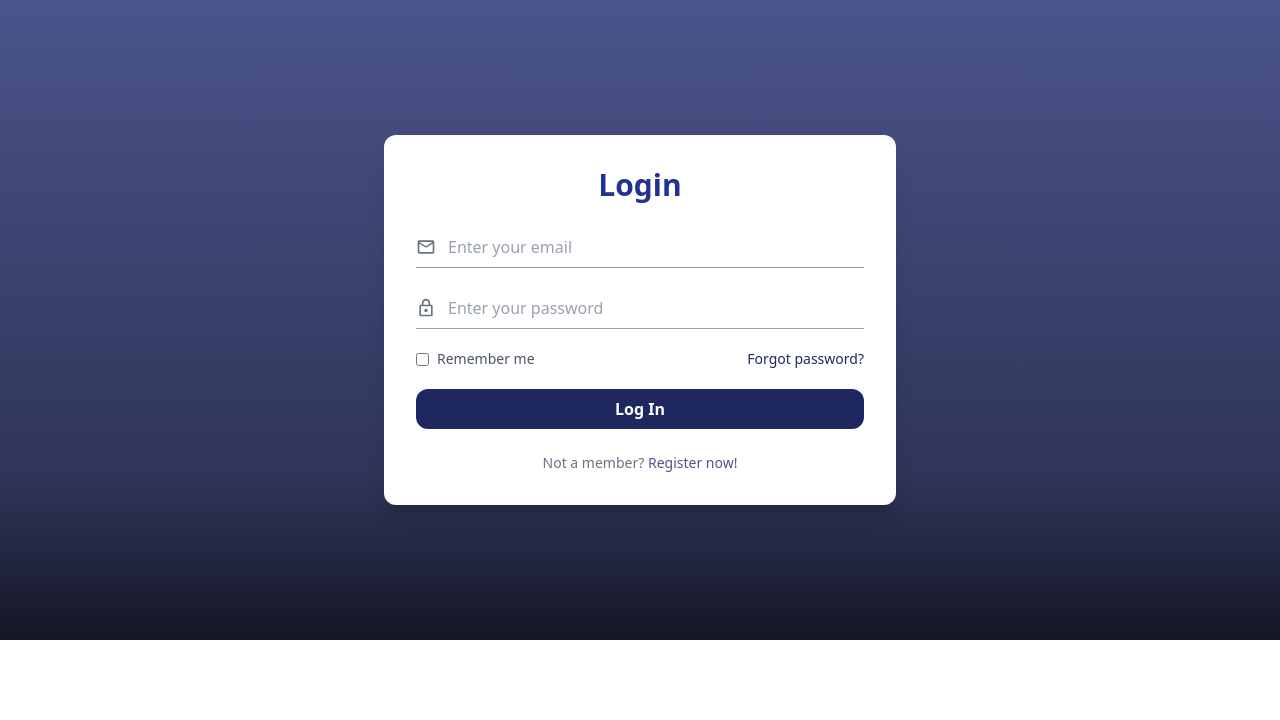
Scenario: Login Page › shows error on failed login (mocked)
This screenshot has width=1280, height=720.
Type "fail@example.com" into the field with placeholder "Enter your email". click: (656, 247)
box: [448,235,864,259]
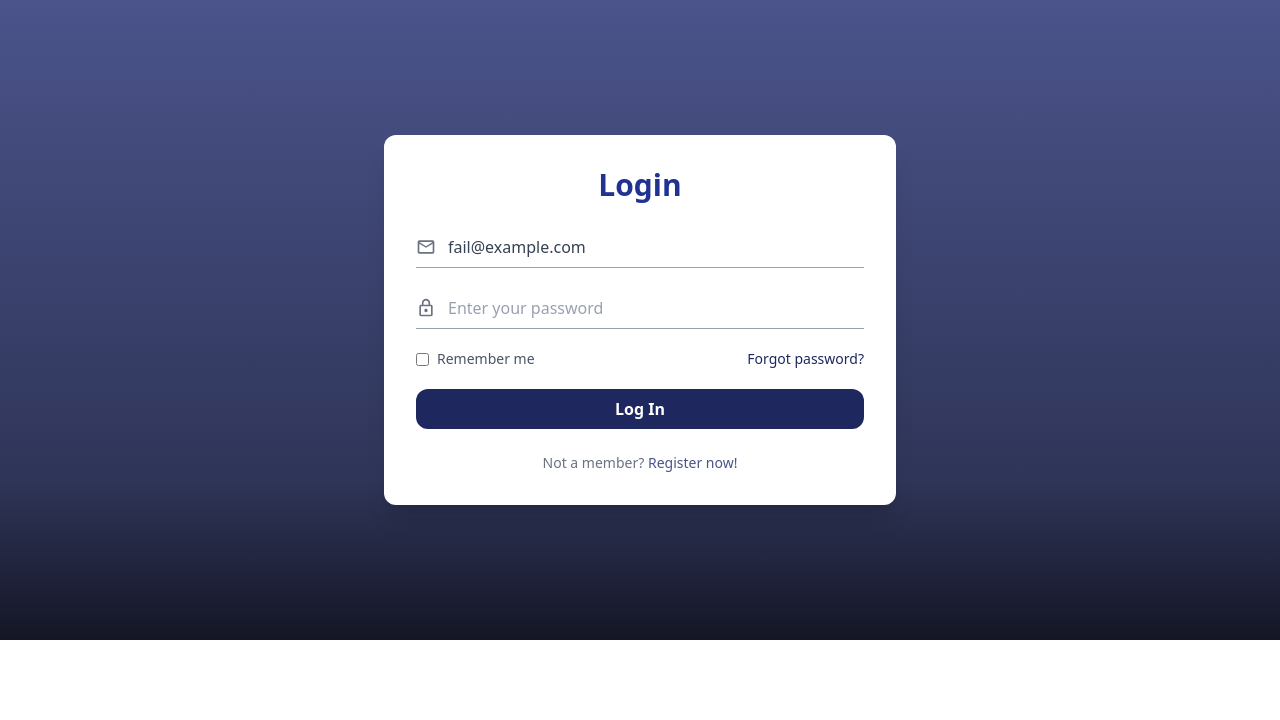
Type "wrongpassword" into the password field with placeholder "Enter your password". click: (656, 308)
box: [448,296,864,320]
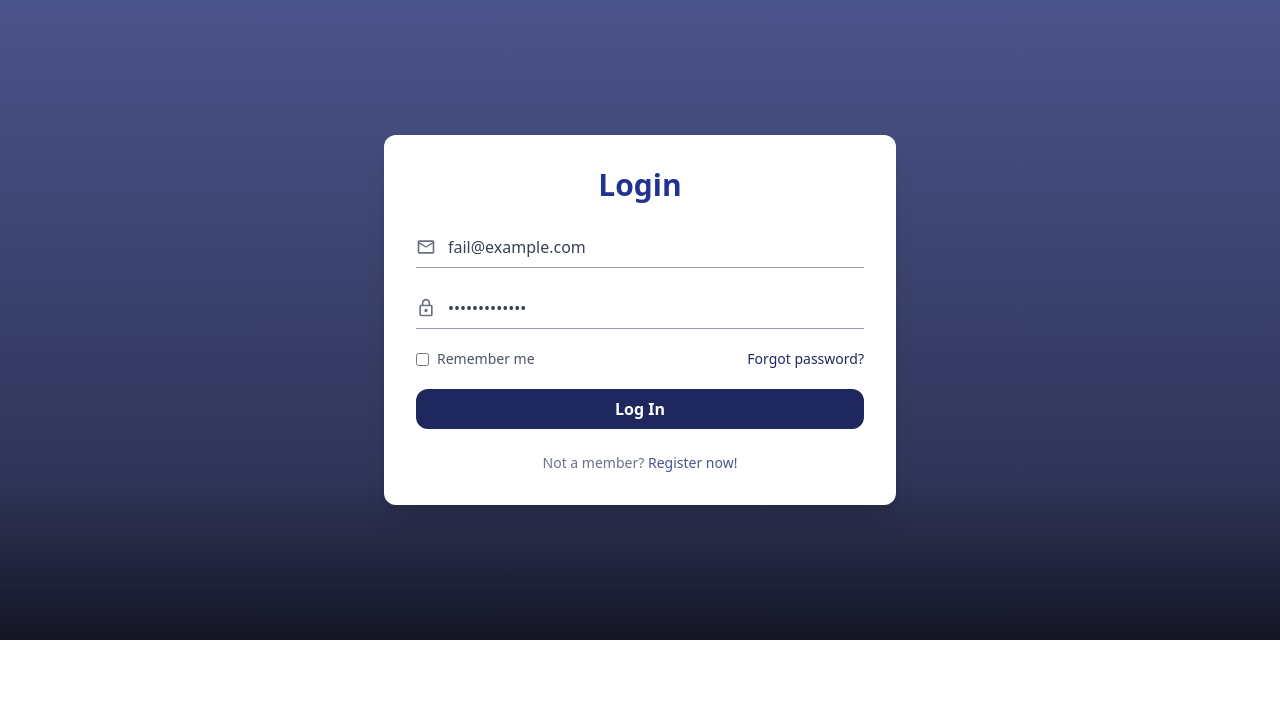
Click the button "Log In". click: click(640, 409)
box: [416,389,864,429]
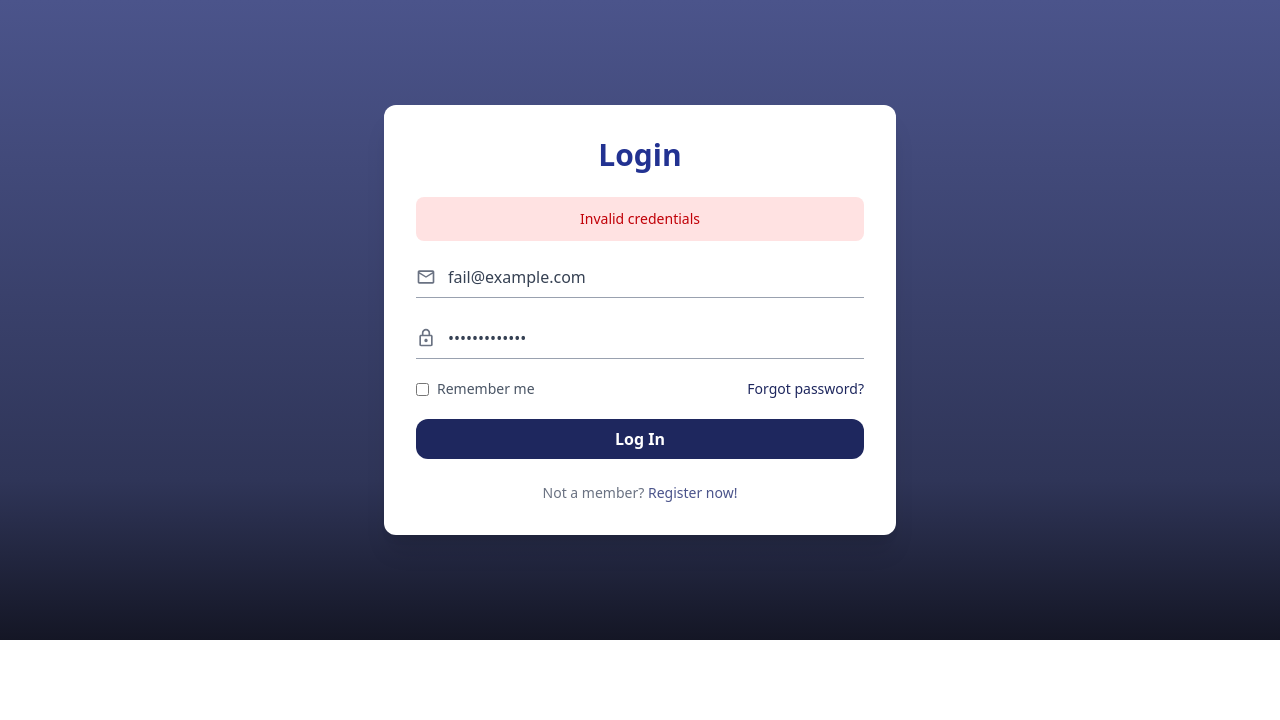
Now the text "Invalid credentials" is shown, box [416,197,864,241]
